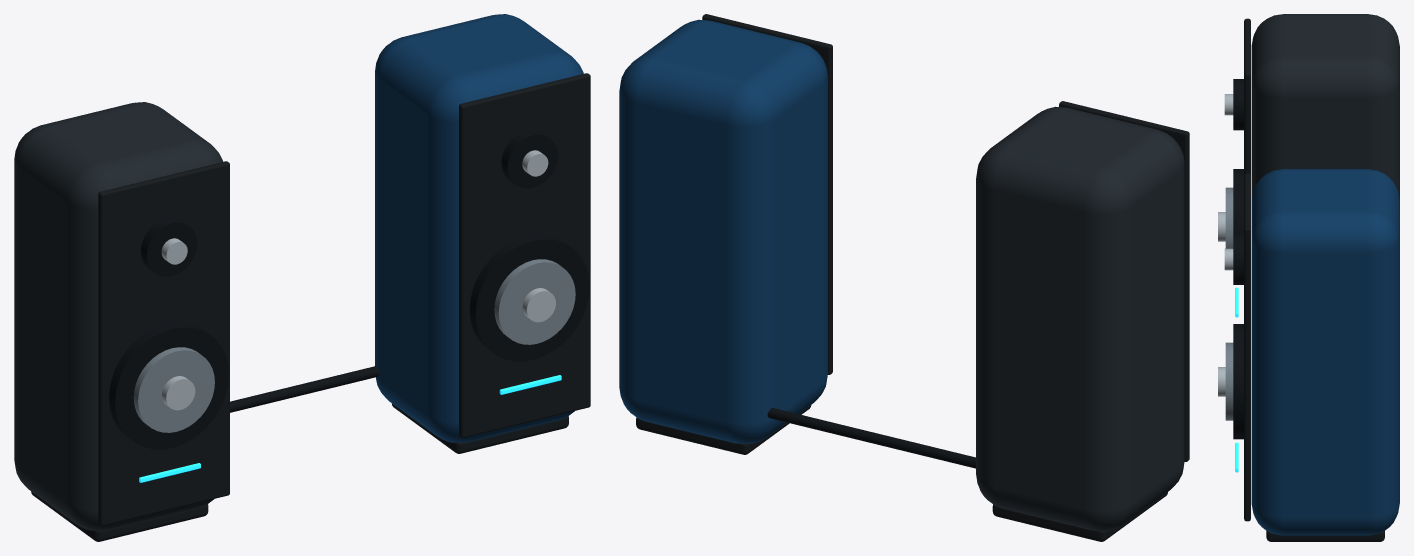
The model's file is desktop-speakers.glb.
The picture shows the model from 3 angles, left to right: view 1: azimuth 30°, elevation 25°; view 2: azimuth 150°, elevation 25°; view 3: azimuth 270°, elevation 25°; orthographic projection. The views are drawn at different scales.
Parts seen in each view (by area): view 1: Speaker cabinet (×2), Fabric grille (×2), Woofer surround (×2), Woofer cone (×2), Tweeter (×2), Premium stereo desktop speakers, Isolation foot (×2), Dust cap (×2); view 2: Speaker cabinet (×2), Fabric grille (×2), Isolation foot (×2), Premium stereo desktop speakers; view 3: Speaker cabinet (×2), Fabric grille (×2), Woofer surround (×2), Woofer cone (×2), Tweeter (×2), Isolation foot, Premium stereo desktop speakers, Dust cap (×2).
Part boxes in pixels (x1,y1,x2,y2): Speaker cabinet (×2): (14, 14, 583, 530); Fabric grille (×2): (98, 73, 590, 526); Woofer surround (×2): (109, 234, 589, 449); Woofer cone (×2): (133, 259, 575, 432); Tweeter (×2): (141, 130, 557, 276); Premium stereo desktop speakers: (139, 150, 561, 482); Isolation foot (×2): (31, 403, 568, 541); Dust cap (×2): (162, 288, 555, 410); Speaker cabinet (×2): (619, 19, 1184, 530); Fabric grille (×2): (702, 14, 1189, 461); Isolation foot (×2): (636, 405, 1167, 541); Premium stereo desktop speakers: (767, 408, 975, 468); Speaker cabinet (×2): (1251, 14, 1399, 535); Fabric grille (×2): (1244, 18, 1250, 521); Woofer surround (×2): (1233, 169, 1243, 439); Woofer cone (×2): (1225, 187, 1233, 420); Tweeter (×2): (1233, 79, 1243, 284); Isolation foot: (1266, 531, 1384, 541); Premium stereo desktop speakers: (1224, 94, 1238, 472); Dust cap (×2): (1218, 212, 1225, 396).
Bounding box in the file's own units: 1.94 × 1.34 × 0.674.
